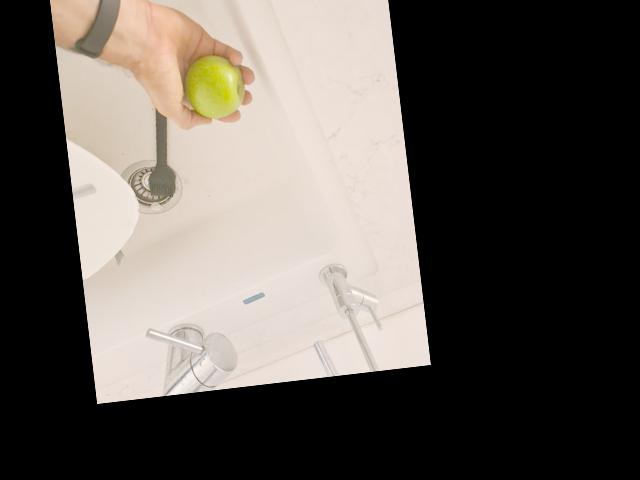apple: (182, 50, 248, 121)
